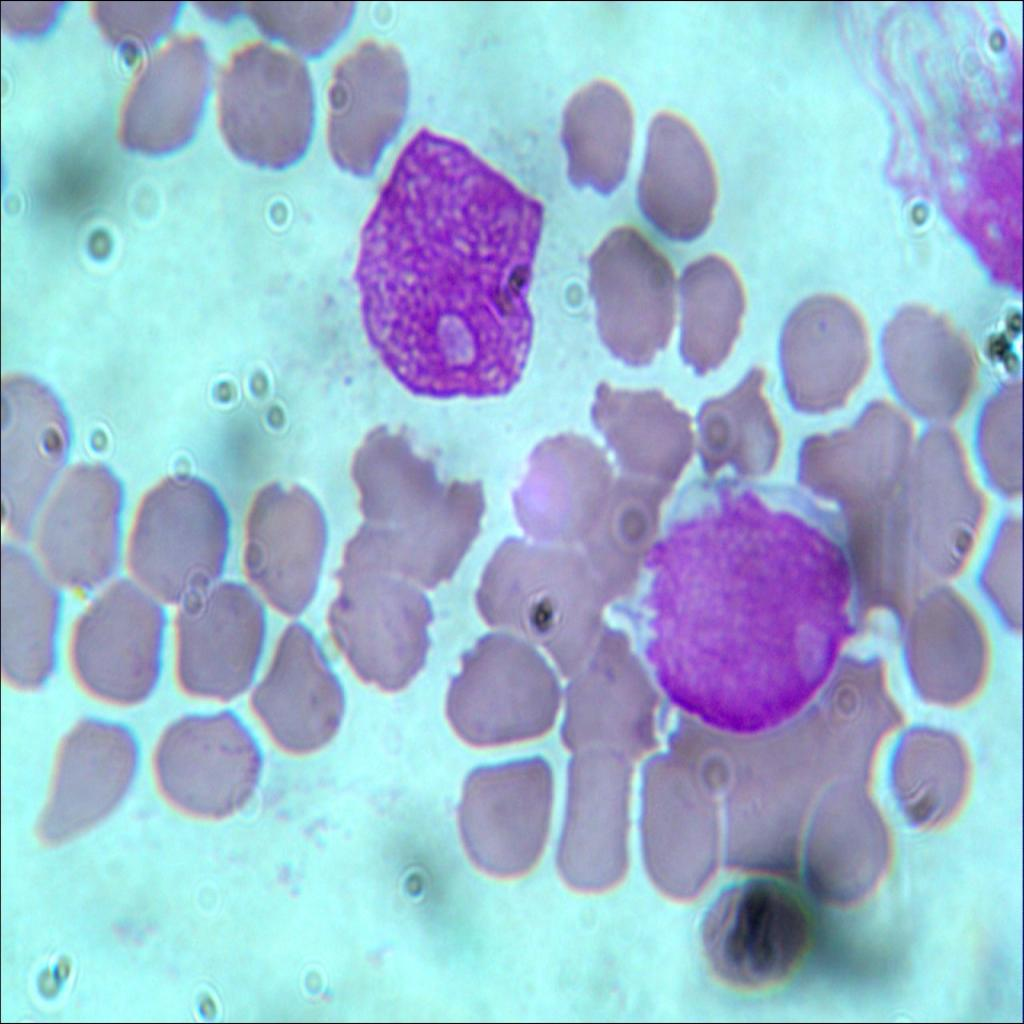Eritrosit: (30, 710, 140, 861), (690, 877, 810, 1010), (871, 288, 978, 432), (638, 740, 731, 905), (126, 464, 228, 610), (570, 371, 690, 494), (578, 227, 682, 365), (898, 418, 988, 574), (444, 630, 558, 752), (234, 477, 330, 621), (249, 624, 348, 762), (214, 44, 318, 174), (320, 577, 434, 692), (153, 696, 255, 824), (548, 741, 634, 892), (561, 627, 655, 765), (0, 365, 75, 535), (316, 44, 410, 178), (34, 448, 123, 589), (788, 774, 886, 900), (454, 762, 552, 888), (123, 34, 219, 161), (629, 106, 719, 241), (773, 284, 869, 410), (506, 426, 608, 538), (69, 584, 163, 705), (788, 408, 906, 504), (896, 591, 986, 714), (178, 585, 266, 708), (402, 462, 484, 591), (661, 255, 749, 375), (886, 714, 978, 824), (691, 365, 779, 479), (556, 78, 635, 200), (0, 541, 59, 691), (575, 475, 656, 578), (538, 554, 606, 671), (343, 437, 429, 527), (473, 545, 553, 621)
Limfoblast: (639, 482, 846, 738), (355, 131, 541, 409)
